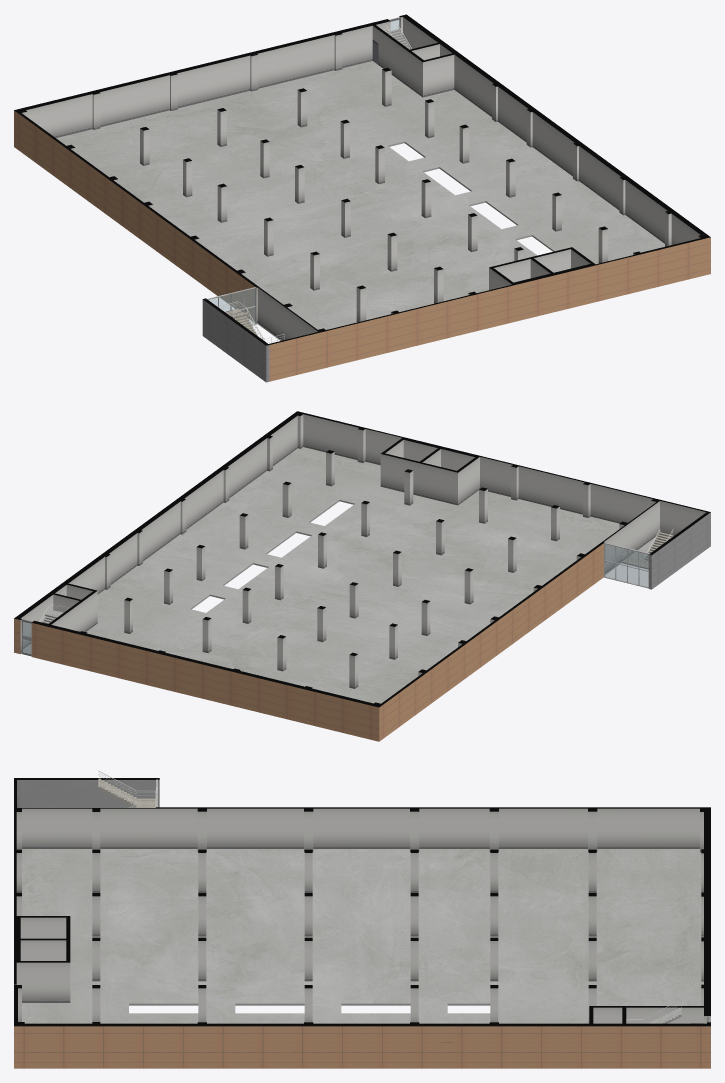
3 renders of one model, top to bottom at view 1: azimuth 30°, elevation 25°; view 2: azimuth 150°, elevation 25°; view 3: azimuth 270°, elevation 25°, orthographic. The views are drawn at different scales.
Visible parts, largest first — view 1: Line075, F&F-3F-2; view 2: Line075, F&F-3F-2; view 3: Line075, F&F-3F-2, UTypeStair038.
Boxes of the visible parts, box(x1,y1,x2,y2) form: Line075: box(56, 61, 664, 329); F&F-3F-2: box(14, 14, 710, 382); Line075: box(23, 447, 657, 703); F&F-3F-2: box(14, 411, 710, 741); Line075: box(22, 849, 703, 1023); F&F-3F-2: box(14, 778, 710, 1068); UTypeStair038: box(98, 778, 155, 807).
Bounding box in the file's own units: 44.3 × 4.32 × 52.53.
Materials: 9 (8 with a texture image).
